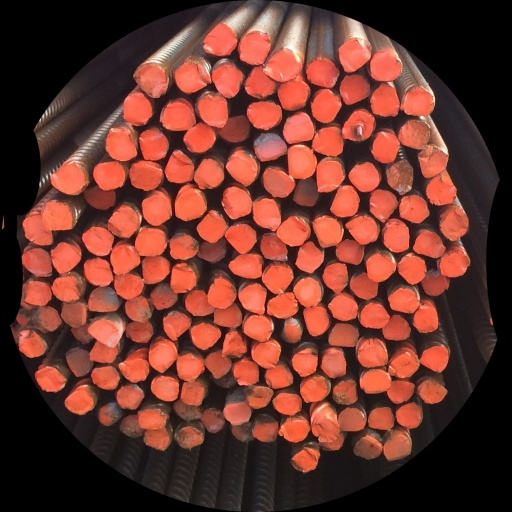dipstick: (133, 63, 169, 97), (203, 22, 237, 57), (265, 47, 301, 80), (226, 150, 258, 186), (239, 29, 271, 64), (338, 38, 371, 71), (50, 164, 85, 195), (175, 185, 206, 220), (175, 62, 211, 92), (105, 129, 137, 161), (370, 50, 402, 82), (212, 65, 243, 98), (245, 65, 276, 98), (306, 57, 339, 88), (287, 145, 317, 179), (160, 102, 196, 130), (277, 80, 309, 111), (277, 216, 310, 246), (311, 89, 341, 122), (342, 111, 375, 141), (123, 91, 152, 125), (247, 101, 281, 130), (253, 133, 287, 162), (142, 193, 172, 225), (222, 187, 252, 219), (402, 86, 434, 116), (140, 128, 169, 161), (130, 161, 163, 190), (52, 273, 86, 301), (440, 207, 468, 241), (371, 83, 399, 117), (198, 96, 228, 127), (23, 215, 53, 246), (20, 248, 51, 278), (418, 146, 448, 177), (109, 206, 138, 238), (263, 168, 295, 197), (346, 216, 378, 245), (166, 150, 194, 183), (88, 319, 123, 345), (227, 254, 262, 280), (194, 158, 224, 188), (226, 223, 256, 253), (51, 242, 80, 273), (17, 330, 48, 359), (312, 217, 343, 246), (399, 120, 430, 149), (283, 113, 314, 142), (198, 211, 226, 243), (238, 283, 266, 315), (295, 241, 323, 273), (42, 201, 72, 230), (207, 279, 236, 309), (397, 255, 426, 285), (340, 74, 369, 104), (184, 124, 215, 152), (262, 265, 293, 293), (331, 186, 359, 217), (370, 190, 398, 221), (254, 198, 281, 230), (386, 161, 413, 193), (83, 227, 112, 256), (111, 245, 140, 274), (399, 195, 429, 223), (350, 270, 378, 300), (426, 177, 456, 205), (314, 126, 342, 156), (93, 162, 124, 189), (136, 229, 167, 256), (294, 276, 321, 307), (218, 116, 250, 142), (322, 262, 348, 294), (387, 287, 419, 313), (383, 221, 409, 253), (141, 256, 170, 284), (65, 348, 93, 377), (148, 342, 176, 371), (420, 345, 449, 373), (317, 161, 345, 190), (31, 306, 61, 333), (163, 310, 190, 340), (244, 315, 274, 342), (389, 352, 419, 379), (349, 163, 379, 190), (366, 254, 396, 281), (414, 231, 444, 258), (35, 366, 66, 392), (190, 323, 221, 349), (279, 416, 310, 442), (373, 131, 398, 163), (84, 258, 112, 286), (176, 353, 204, 381), (170, 233, 199, 260), (251, 341, 280, 368), (269, 292, 298, 319), (358, 341, 387, 368), (421, 268, 448, 297), (303, 307, 329, 337), (89, 286, 120, 311), (360, 369, 391, 394), (300, 376, 331, 401), (261, 232, 288, 260), (360, 302, 389, 328), (113, 274, 143, 299), (290, 447, 320, 472), (439, 252, 469, 277), (395, 401, 422, 428), (311, 416, 339, 442), (383, 435, 411, 461), (292, 348, 318, 376), (22, 280, 51, 305), (150, 376, 179, 401), (328, 295, 357, 320), (64, 391, 94, 415), (328, 323, 358, 347), (118, 360, 149, 383), (332, 378, 358, 405), (171, 264, 196, 292), (321, 349, 346, 377), (413, 305, 438, 333), (336, 240, 364, 265), (419, 380, 448, 404), (174, 426, 204, 449), (187, 291, 213, 317), (125, 297, 152, 322), (383, 315, 410, 340), (295, 180, 320, 207), (91, 366, 119, 390), (253, 414, 277, 442), (354, 436, 382, 460), (84, 188, 115, 209), (151, 284, 177, 309), (61, 302, 87, 327), (205, 350, 230, 376), (338, 408, 365, 432), (273, 392, 301, 415), (387, 380, 415, 403), (265, 365, 293, 388), (213, 305, 242, 327), (118, 384, 143, 409), (98, 402, 124, 426), (223, 331, 246, 358), (180, 381, 205, 405), (234, 361, 259, 385), (368, 407, 394, 430), (199, 242, 226, 264), (224, 402, 251, 424), (90, 341, 118, 362), (201, 407, 224, 432), (143, 428, 169, 450), (174, 400, 201, 421), (245, 387, 272, 408), (126, 322, 152, 343), (281, 317, 302, 343), (138, 410, 166, 429), (120, 415, 141, 438), (231, 423, 253, 443), (319, 435, 344, 450), (71, 327, 93, 344)
